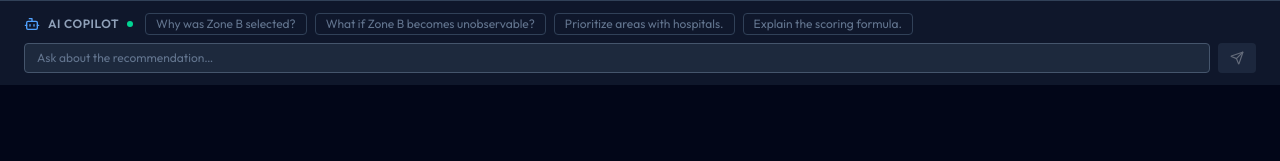
Test: AICopilot › sends message via Enter key and shows response
This screenshot has width=1280, height=161.
Type "Why Zone B?" into the field named "ai copilot input" at (617, 58), box left=24, top=43, right=1210, bottom=73
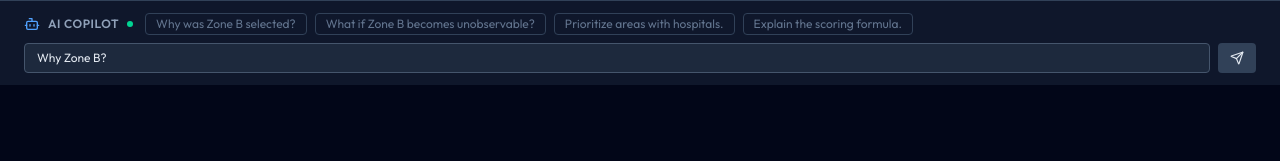
Press Enter in the field named "ai copilot input", box left=24, top=43, right=1210, bottom=73
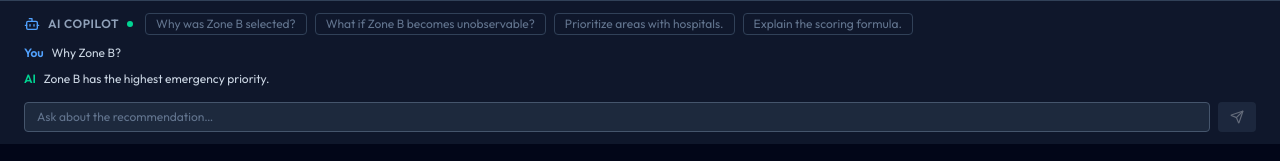
Check: the text "Zone B has the highest emergency priority." is shown, box left=44, top=68, right=269, bottom=88
